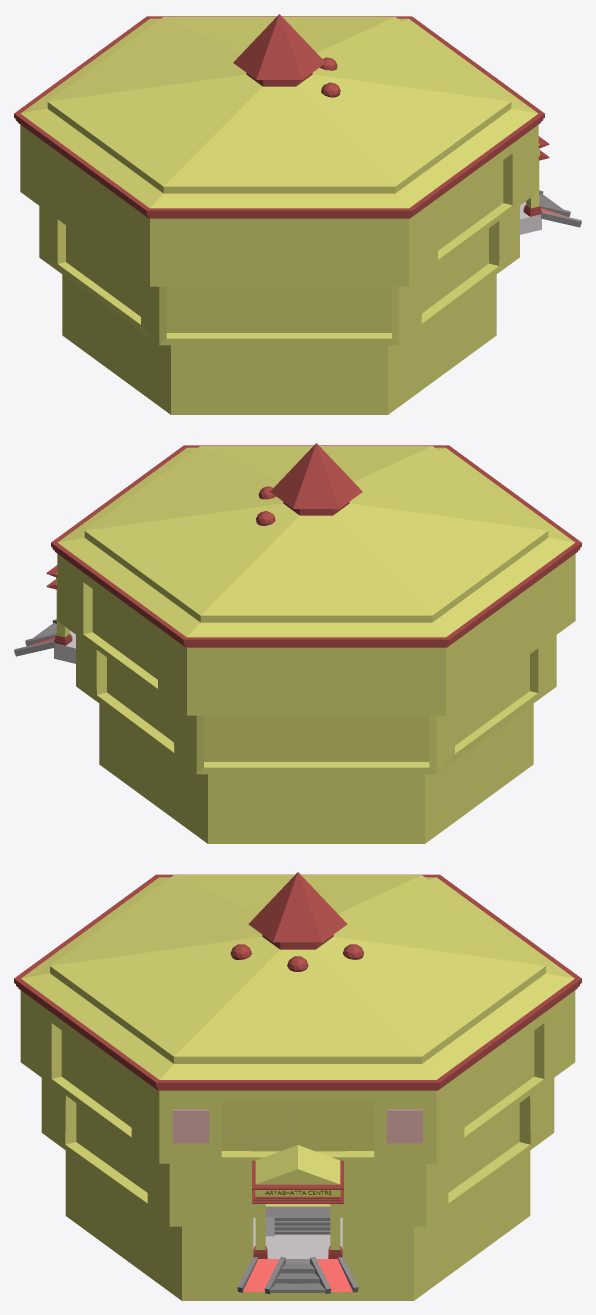
Rendered from Aryabhatta.fbx.
3 views of the same model, one above another, from view 1: azimuth 30°, elevation 25°; view 2: azimuth 150°, elevation 25°; view 3: azimuth 270°, elevation 25° (orthographic). The views are drawn at different scales.
Parts seen in each view (by area): view 1: Aryabhatta, Aryabhatta.001; view 2: Aryabhatta, Aryabhatta.001; view 3: Aryabhatta, Aryabhatta.001, Cube.003, Cube.010, Cube, Cube.002, Cube.004, Cube.009, Cube.001, Cube.008, Cube.007.
Boxes of the visible parts, bbox=[...] form: Aryabhatta: bbox=[20, 14, 538, 414]; Aryabhatta.001: bbox=[14, 16, 544, 218]; Aryabhatta: bbox=[57, 443, 575, 843]; Aryabhatta.001: bbox=[51, 445, 581, 647]; Aryabhatta: bbox=[20, 872, 575, 1300]; Aryabhatta.001: bbox=[14, 874, 581, 1090]; Cube.003: bbox=[255, 1145, 340, 1184]; Cube.010: bbox=[173, 1109, 422, 1143]; Cube: bbox=[252, 1160, 343, 1203]; Cube.002: bbox=[253, 1217, 342, 1263]; Cube.004: bbox=[274, 1206, 330, 1234]; Cube.009: bbox=[243, 1259, 352, 1291]; Cube.001: bbox=[253, 1204, 342, 1258]; Cube.008: bbox=[270, 1263, 325, 1292]; Cube.007: bbox=[264, 1256, 331, 1293].
Size of the model in its own units: 1380 by 890 by 1333.
